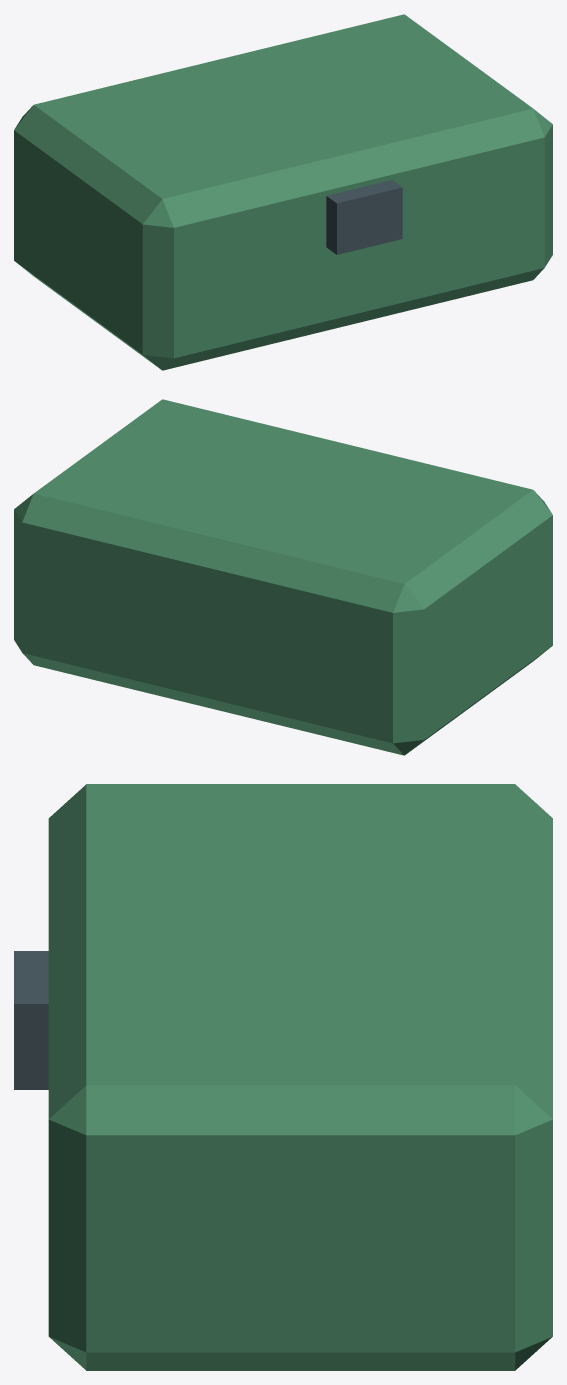
The model's file is set_transparent_bin.glb.
3 renders of one model, top to bottom at view 1: azimuth 30°, elevation 25°; view 2: azimuth 150°, elevation 25°; view 3: azimuth 270°, elevation 25°, orthographic. The views are drawn at different scales.
Parts seen in each view (by area): view 1: set_transparent_bin; view 2: set_transparent_bin; view 3: set_transparent_bin.
Boxes of the visible parts, x1,y1,x2,y2 form: set_transparent_bin: (14,14,552,370); set_transparent_bin: (14,399,552,755); set_transparent_bin: (14,784,552,1370).
Bounding box in the file's own units: 0.25 × 0.1 × 0.171.
